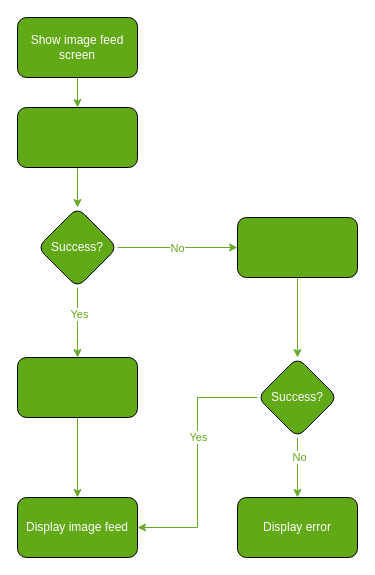
Image size: 375x575. Some labels were removed from this diagram. Each missing label, with the centre of its shape:
"Cache image feed" goes at (77,387).
"Fetch image feed from remote" goes at (77,137).
"Load image feed from cache" goes at (297,247).
